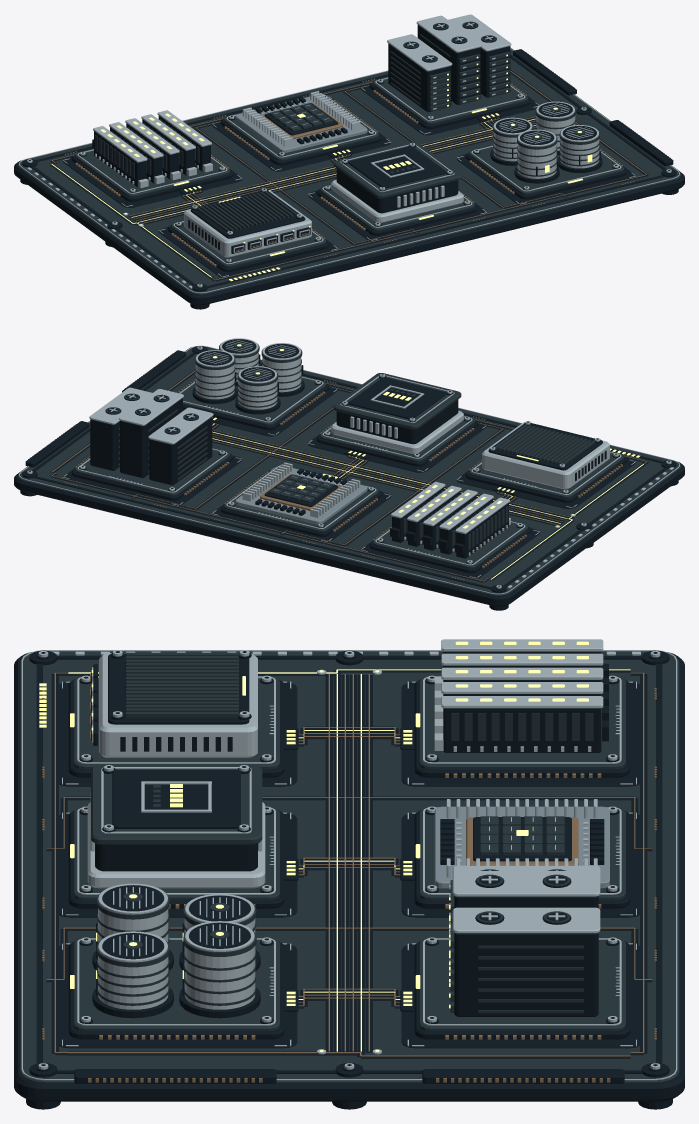
File: dispatch.glb
The picture shows the model from 3 angles, top to bottom: view 1: azimuth 30°, elevation 25°; view 2: azimuth 150°, elevation 25°; view 3: azimuth 270°, elevation 25°; orthographic projection. The views are drawn at different scales.
Parts seen in each view (by area): view 1: Board_graphite, Board_dark, Tracks_dark, Node2_graphite, Node2_dark, Rig11_silver, Node3_graphite, Node2_silver, Rig8_silver, Tracks_copper, Node3_dark, Node3_silver (+23 smaller); view 2: Board_graphite, Board_dark, Tracks_dark, Node2_dark, Rig11_silver, Node3_graphite, Node2_silver, Tracks_copper, Node3_silver, Rig8_dark, Node2_graphite, Rig8_silver (+24 smaller); view 3: Board_graphite, Board_dark, Tracks_dark, Node2_dark, Node3_graphite, Node2_graphite, Rig8_silver, Rig11_silver, Node2_silver, Tracks_copper, Node3_silver, Rig10_dark (+27 smaller).
Part boxes in pixels (x1=…): Board_graphite: x1=17, y1=49, x2=681, y2=294; Board_dark: x1=14, y1=47, x2=684, y2=309; Tracks_dark: x1=50, y1=70, x2=648, y2=281; Node2_graphite: x1=372, y1=21, x2=527, y2=124; Node2_dark: x1=369, y1=22, x2=530, y2=129; Rig11_silver: x1=493, y1=101, x2=599, y2=178; Node3_graphite: x1=171, y1=191, x2=326, y2=267; Node2_silver: x1=375, y1=14, x2=525, y2=121; Rig8_silver: x1=93, y1=110, x2=212, y2=188; Tracks_copper: x1=51, y1=70, x2=647, y2=280; Node3_dark: x1=168, y1=188, x2=329, y2=272; Node3_silver: x1=173, y1=188, x2=323, y2=264; Board_graphite: x1=17, y1=347, x2=681, y2=595; Board_dark: x1=14, y1=346, x2=684, y2=610; Tracks_dark: x1=50, y1=370, x2=648, y2=582; Node2_dark: x1=72, y1=394, x2=233, y2=500; Rig11_silver: x1=195, y1=338, x2=301, y2=409; Node3_graphite: x1=468, y1=424, x2=623, y2=498; Node2_silver: x1=77, y1=387, x2=227, y2=492; Tracks_copper: x1=51, y1=370, x2=647, y2=581; Node3_silver: x1=471, y1=421, x2=621, y2=495; Rig8_dark: x1=390, y1=487, x2=508, y2=558; Node2_graphite: x1=75, y1=393, x2=230, y2=495; Rig8_silver: x1=391, y1=481, x2=510, y2=555; Board_graphite: x1=19, y1=651, x2=679, y2=1082; Board_dark: x1=14, y1=650, x2=684, y2=1109; Tracks_dark: x1=46, y1=669, x2=652, y2=1058; Node2_dark: x1=414, y1=876, x2=630, y2=1039; Node3_graphite: x1=73, y1=652, x2=279, y2=769; Node2_graphite: x1=419, y1=869, x2=625, y2=1031; Rig8_silver: x1=434, y1=639, x2=603, y2=751; Rig11_silver: x1=98, y1=883, x2=255, y2=1009; Node2_silver: x1=423, y1=865, x2=621, y2=1025; Tracks_copper: x1=46, y1=672, x2=652, y2=1056; Node3_silver: x1=77, y1=650, x2=275, y2=763; Rig10_dark: x1=102, y1=766, x2=250, y2=832.
Size of the model in its own units: 20.03 by 3.16 by 13.
